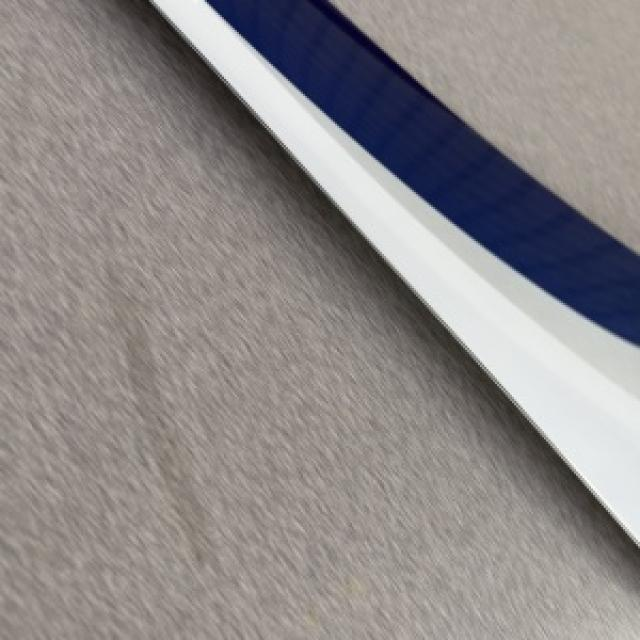healthy: (0, 0, 638, 638), (151, 0, 638, 542)
